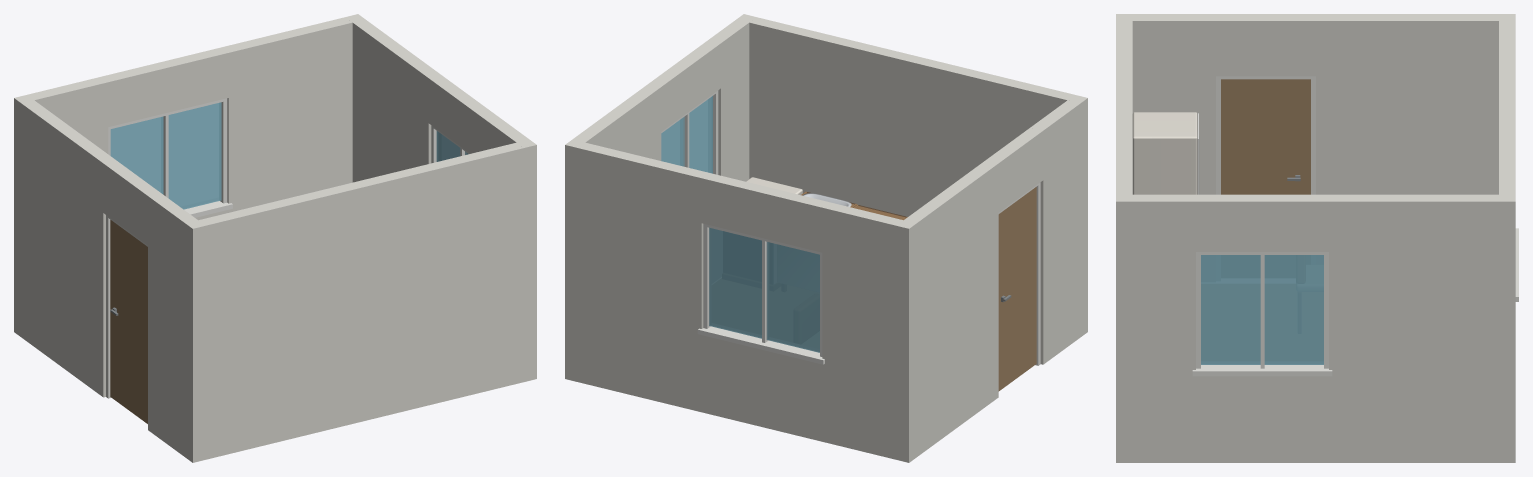
Rendered from oursv11b.glb.
3 renders of one model, left to right at view 1: azimuth 30°, elevation 25°; view 2: azimuth 150°, elevation 25°; view 3: azimuth 270°, elevation 25°, orthographic. The views are drawn at different scales.
Parts seen in each view (by area): view 1: wall|scenesmith_057__R00|0, wall|scenesmith_057__R00|2, wall|scenesmith_057__R00|1, wall|scenesmith_057__R00|3, wall|scenesmith_057__R00|1 Window 0 | glazing, wall|scenesmith_057__R00|2 Door 0 | wood leaf, wall|scenesmith_057__R00|1 Window 0 | jamb, wall|scenesmith_057__R00|2 Door 0 | jamb; view 2: wall|scenesmith_057__R00|1, wall|scenesmith_057__R00|0, wall|scenesmith_057__R00|2, wall|scenesmith_057__R00|3, wall|scenesmith_057__R00|1 Window 0 | glazing, wall|scenesmith_057__R00|2 Door 0 | wood leaf, wall|scenesmith_057__R00|1 Window 0 | jamb, wall|scenesmith_057__R00|3 Window 0 | glazing, wall|scenesmith_057__R00|2 Door 0 | jamb, wall|scenesmith_057__R00|3 Window 0 | jamb; view 3: wall|scenesmith_057__R00|3, wall|scenesmith_057__R00|2, wall|scenesmith_057__R00|3 Window 0 | glazing, wall|scenesmith_057__R00|2 Door 0 | wood leaf, wall|scenesmith_057__R00|0, wall|scenesmith_057__R00|1, Appliance enclosure, wall|scenesmith_057__R00|3 Window 0 | jamb, wall|scenesmith_057__R00|2 Door 0 | jamb.
Part boxes in pixels (x1,y1,x2,y2): wall|scenesmith_057__R00|0: (185, 142, 536, 462); wall|scenesmith_057__R00|2: (14, 98, 205, 462); wall|scenesmith_057__R00|1: (14, 17, 352, 220); wall|scenesmith_057__R00|3: (345, 14, 536, 379); wall|scenesmith_057__R00|1 Window 0 | glazing: (110, 102, 221, 209); wall|scenesmith_057__R00|2 Door 0 | wood leaf: (110, 220, 147, 423); wall|scenesmith_057__R00|1 Window 0 | jamb: (108, 98, 232, 217); wall|scenesmith_057__R00|2 Door 0 | jamb: (106, 215, 147, 398); wall|scenesmith_057__R00|1: (578, 142, 916, 459); wall|scenesmith_057__R00|0: (749, 17, 1087, 216); wall|scenesmith_057__R00|2: (896, 98, 1087, 462); wall|scenesmith_057__R00|3: (565, 14, 756, 381); wall|scenesmith_057__R00|1 Window 0 | glazing: (709, 227, 819, 352); wall|scenesmith_057__R00|2 Door 0 | wood leaf: (998, 187, 1036, 391); wall|scenesmith_057__R00|1 Window 0 | jamb: (697, 223, 824, 364); wall|scenesmith_057__R00|3 Window 0 | glazing: (661, 96, 712, 173); wall|scenesmith_057__R00|2 Door 0 | jamb: (998, 182, 1040, 365); wall|scenesmith_057__R00|3 Window 0 | jamb: (661, 90, 718, 174); wall|scenesmith_057__R00|3: (1116, 194, 1515, 462); wall|scenesmith_057__R00|2: (1132, 14, 1498, 194); wall|scenesmith_057__R00|3 Window 0 | glazing: (1201, 255, 1323, 364); wall|scenesmith_057__R00|2 Door 0 | wood leaf: (1221, 79, 1310, 194); wall|scenesmith_057__R00|0: (1116, 14, 1132, 462); wall|scenesmith_057__R00|1: (1499, 14, 1515, 462); Appliance enclosure: (1132, 112, 1197, 194); wall|scenesmith_057__R00|3 Window 0 | jamb: (1192, 252, 1332, 376); wall|scenesmith_057__R00|2 Door 0 | jamb: (1216, 76, 1315, 194).
Bounding box in the file's own units: 4.03 × 2.61 × 3.63.
